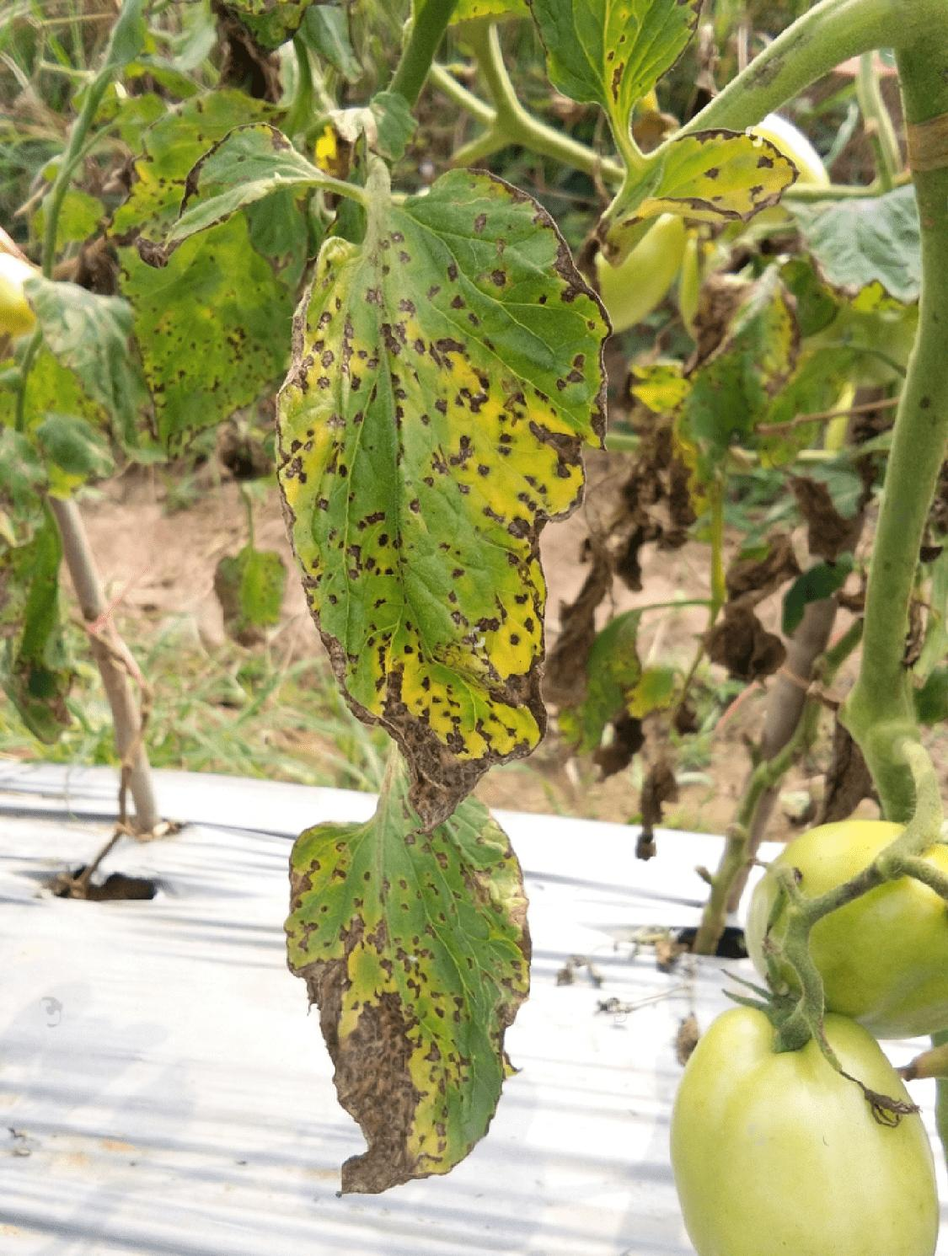Bacterial Spot: (256, 152, 615, 834), (272, 772, 551, 1205)
